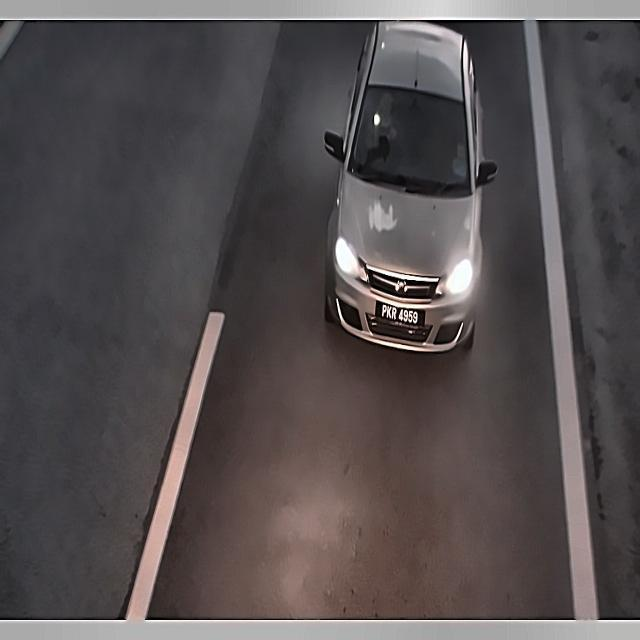car: (372, 301, 426, 332)
